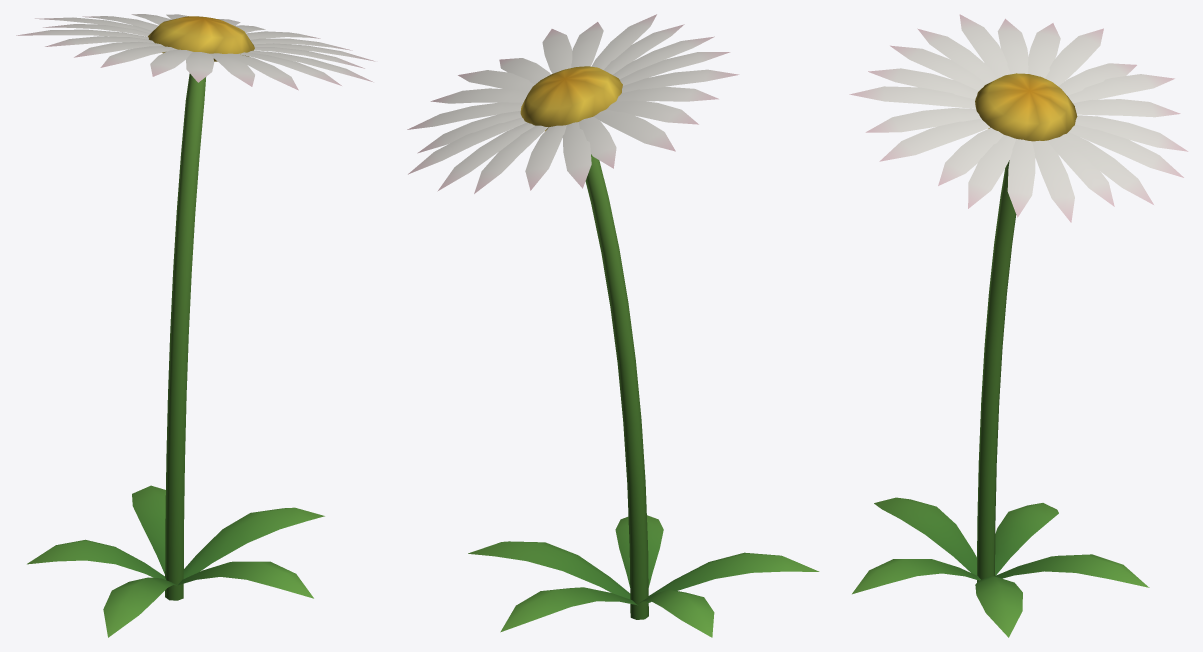
File: Daisy.fbx
3 views of the same model, side by side, from view 1: azimuth 30°, elevation 25°; view 2: azimuth 150°, elevation 25°; view 3: azimuth 270°, elevation 25° (orthographic). The views are drawn at different scales.
Parts seen in each view (by area): view 1: Daisy; view 2: Daisy; view 3: Daisy.
Part boxes in pixels (x1,y1,x2,y2): Daisy: [16, 14, 375, 637]; Daisy: [407, 14, 819, 637]; Daisy: [849, 14, 1188, 637].
Size of the model in its own units: 2.87 by 4.79 by 2.75.
